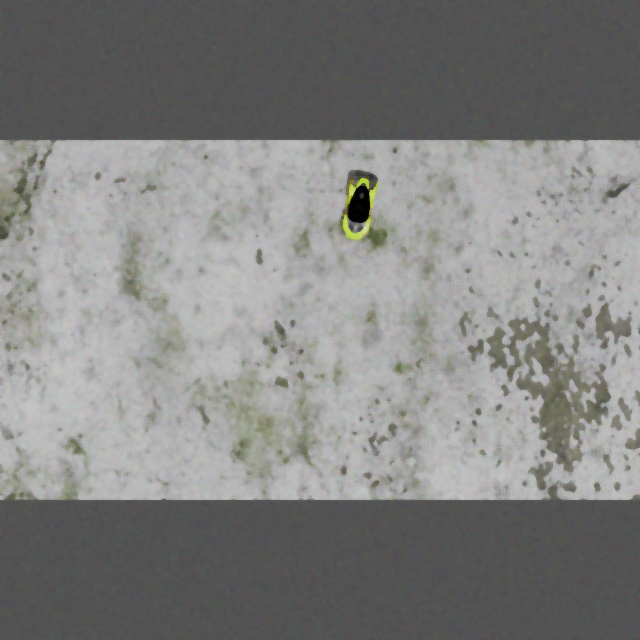car: (338, 168, 381, 242)
